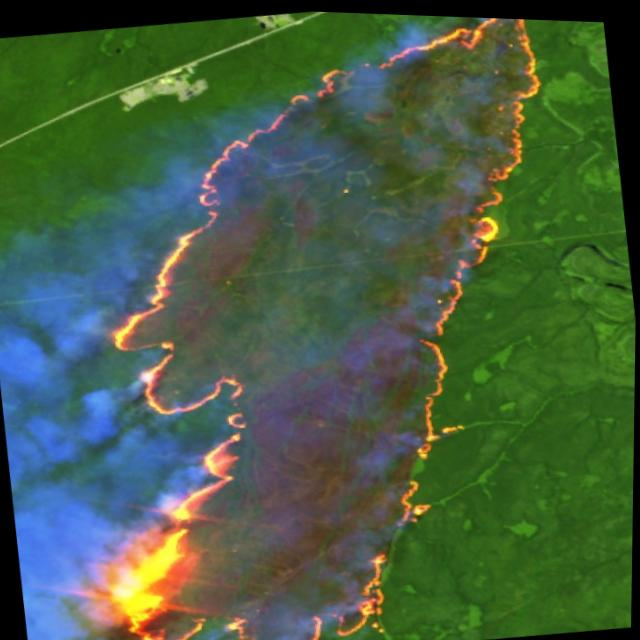fire: (22, 1, 616, 640)
